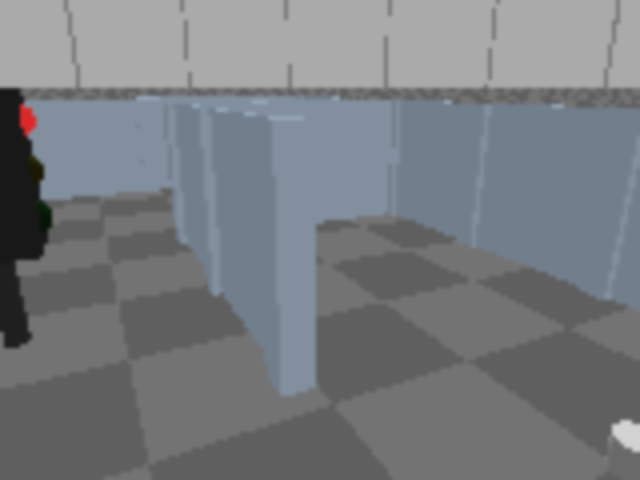puck: (605, 423, 638, 478)
traffic_light: (0, 70, 64, 372)
